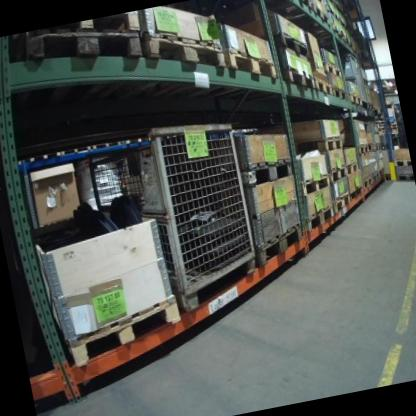pallet: (17, 12, 145, 79), (64, 292, 183, 357), (136, 14, 228, 90), (14, 11, 139, 48), (252, 219, 310, 268), (228, 43, 280, 91), (232, 152, 295, 189), (272, 26, 313, 66), (294, 133, 345, 157), (280, 59, 315, 92), (262, 0, 315, 20), (303, 202, 337, 231), (299, 172, 332, 195), (308, 6, 333, 33), (327, 19, 349, 48), (325, 2, 346, 29), (328, 162, 350, 186), (313, 71, 333, 96), (322, 58, 343, 81), (332, 188, 351, 208), (348, 182, 365, 201), (394, 167, 413, 184), (333, 85, 348, 105), (343, 159, 361, 175), (370, 168, 383, 188), (354, 141, 371, 156), (304, 0, 328, 10), (347, 90, 362, 106), (393, 156, 411, 168), (378, 162, 389, 180), (361, 174, 374, 188), (369, 139, 383, 151)
stillage: (77, 113, 263, 324), (336, 48, 370, 110), (353, 28, 376, 64)
